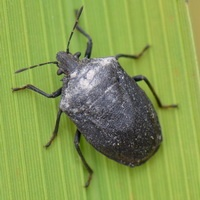insect: (12, 6, 177, 186)
